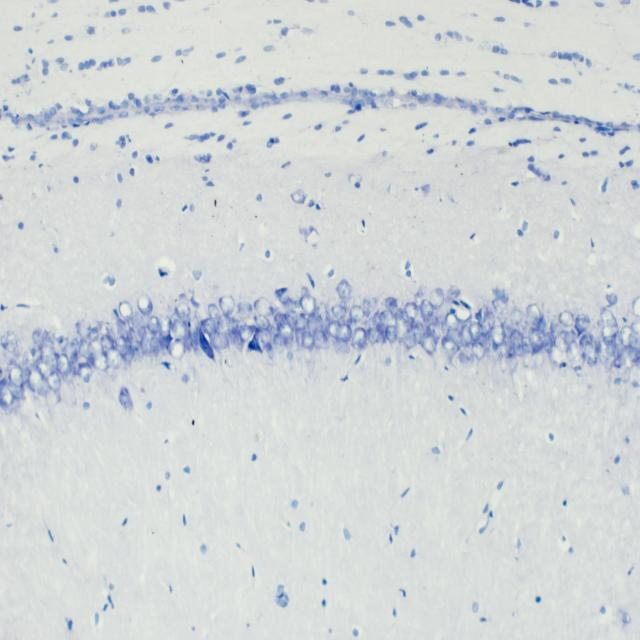neuron: (27, 369, 50, 398), (579, 332, 598, 367), (0, 329, 19, 356), (141, 326, 157, 357), (41, 342, 58, 370), (600, 307, 618, 333), (171, 318, 190, 341), (105, 346, 122, 371), (118, 386, 134, 412), (423, 327, 437, 356), (254, 297, 274, 317), (528, 326, 544, 351), (620, 351, 632, 384), (510, 329, 524, 357), (136, 294, 153, 317), (254, 328, 271, 351), (210, 331, 230, 350), (168, 338, 186, 359), (352, 326, 367, 351), (307, 313, 323, 336), (395, 315, 409, 341), (276, 320, 294, 340), (8, 366, 24, 388), (219, 294, 235, 316), (420, 298, 434, 323), (0, 388, 15, 411), (130, 339, 145, 362), (442, 336, 459, 356), (455, 305, 472, 325), (88, 339, 104, 360), (300, 295, 316, 316), (404, 301, 418, 325), (189, 312, 200, 342), (337, 279, 352, 301), (554, 331, 569, 353), (238, 324, 256, 342), (8, 380, 24, 400), (129, 310, 145, 330), (76, 318, 91, 339), (620, 326, 635, 347), (272, 332, 286, 354), (430, 288, 444, 310), (491, 325, 505, 347), (175, 302, 190, 322), (217, 314, 232, 334), (526, 303, 541, 323), (601, 326, 616, 346), (56, 353, 69, 376), (115, 334, 128, 357), (36, 361, 52, 379), (93, 354, 109, 372), (456, 351, 474, 367), (492, 298, 508, 316), (567, 340, 580, 362), (338, 323, 352, 343), (48, 371, 61, 392), (253, 314, 270, 330), (274, 287, 290, 304), (446, 328, 462, 345), (78, 362, 93, 380), (118, 301, 133, 319), (414, 320, 425, 344), (521, 336, 534, 356), (237, 301, 253, 317), (558, 310, 574, 326), (379, 310, 394, 327), (100, 334, 114, 352), (160, 316, 172, 337), (202, 318, 216, 336), (445, 312, 459, 330), (469, 322, 481, 343), (506, 353, 518, 374), (550, 317, 564, 335), (576, 314, 590, 332), (302, 331, 315, 350), (79, 338, 91, 358), (328, 319, 340, 339), (349, 306, 364, 322), (494, 286, 508, 303), (509, 308, 523, 325), (121, 345, 134, 363), (428, 322, 441, 340), (478, 318, 491, 336), (503, 317, 514, 338), (543, 332, 553, 355), (148, 315, 160, 334), (462, 325, 474, 344), (363, 296, 377, 312), (373, 327, 386, 344), (385, 325, 398, 342), (472, 342, 485, 359), (286, 309, 298, 327), (331, 304, 346, 318), (446, 286, 461, 300), (404, 334, 417, 350), (626, 346, 638, 363), (70, 338, 81, 356), (367, 326, 378, 344), (384, 297, 398, 311), (608, 343, 620, 359), (295, 327, 305, 346), (605, 292, 618, 306), (208, 304, 218, 322), (233, 334, 243, 351), (317, 329, 328, 344), (20, 367, 30, 383), (537, 316, 547, 332), (274, 312, 286, 325), (230, 317, 239, 334), (614, 356, 626, 368), (266, 342, 274, 358), (516, 321, 525, 334), (631, 321, 640, 334), (500, 341, 507, 357), (394, 308, 404, 318)
